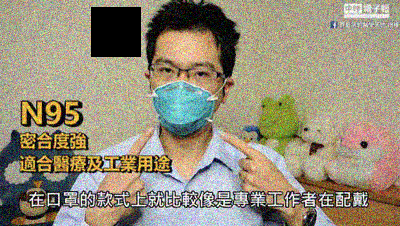with_mask: (150, 56, 223, 136)
